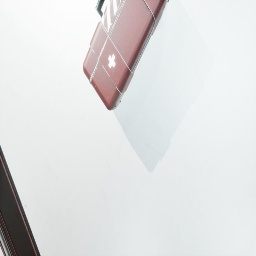FirstAidBox ,: (83, 0, 169, 111)
